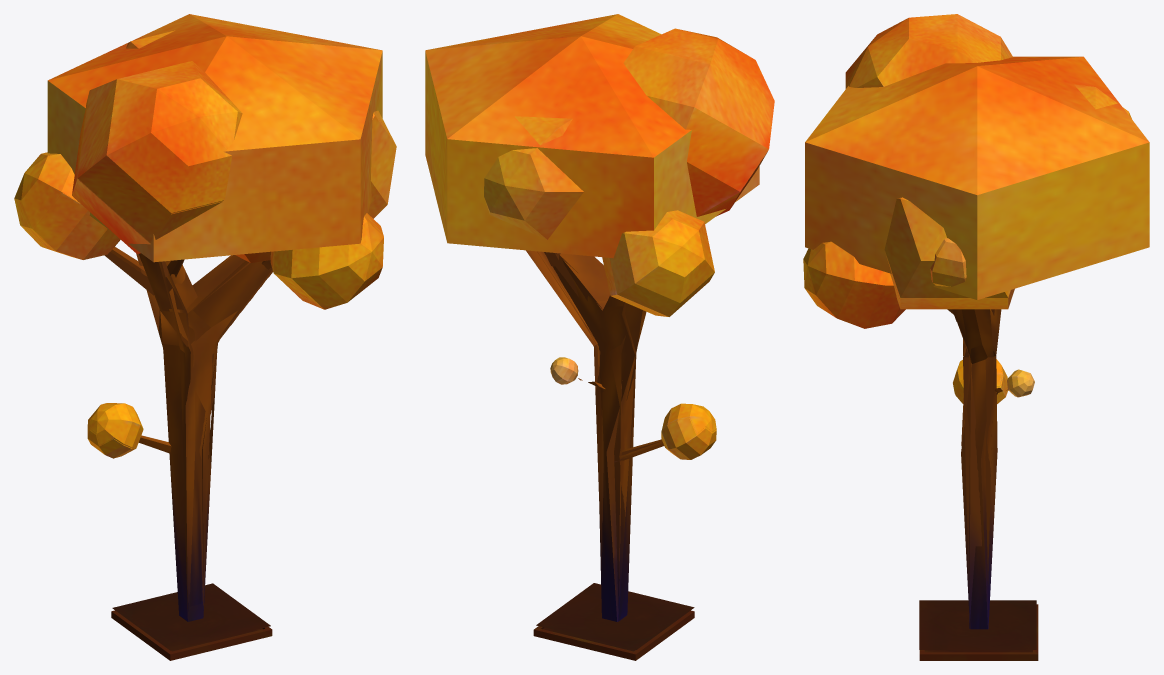
Rendered from E_tree02.fbx.
The picture shows the model from 3 angles, left to right: view 1: azimuth 30°, elevation 25°; view 2: azimuth 150°, elevation 25°; view 3: azimuth 270°, elevation 25°; orthographic projection.
Visible parts, largest first — view 1: lp_e_treeleaves02, hp_e_treeleaves02, mp_e_treebase02, hp_e_treebase02, mp_e_treeleaves02, lp_e_treebase02; view 2: lp_e_treeleaves02, hp_e_treeleaves02, hp_e_treebase02, mp_e_treebase02, lp_e_treebase02, mp_e_treeleaves02; view 3: lp_e_treeleaves02, hp_e_treeleaves02, hp_e_treebase02, mp_e_treebase02, mp_e_treeleaves02, lp_e_treebase02.
Boxes of the visible parts, x1,y1,x2,y2 form: lp_e_treeleaves02: (47,14,382,262); hp_e_treeleaves02: (14,30,383,458); mp_e_treebase02: (112,253,270,650); hp_e_treebase02: (104,247,272,660); mp_e_treeleaves02: (33,110,396,447); lp_e_treebase02: (158,255,237,621); lp_e_treeleaves02: (425,14,759,258); hp_e_treeleaves02: (484,28,774,459); hp_e_treebase02: (533,252,694,660); mp_e_treebase02: (536,251,694,649); lp_e_treebase02: (526,250,636,620); mp_e_treeleaves02: (662,151,767,433); lp_e_treeleaves02: (805,56,1149,300); hp_e_treeleaves02: (803,14,1131,403); hp_e_treebase02: (919,309,1038,660); mp_e_treebase02: (919,309,1036,649); mp_e_treeleaves02: (884,197,1014,401); lp_e_treebase02: (963,309,993,628).
Bounding box in the file's own units: 413 × 709 × 379.
